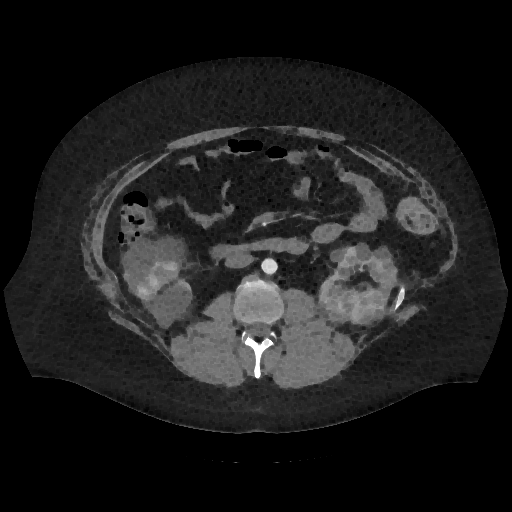Lesion: (131, 277, 163, 299)
